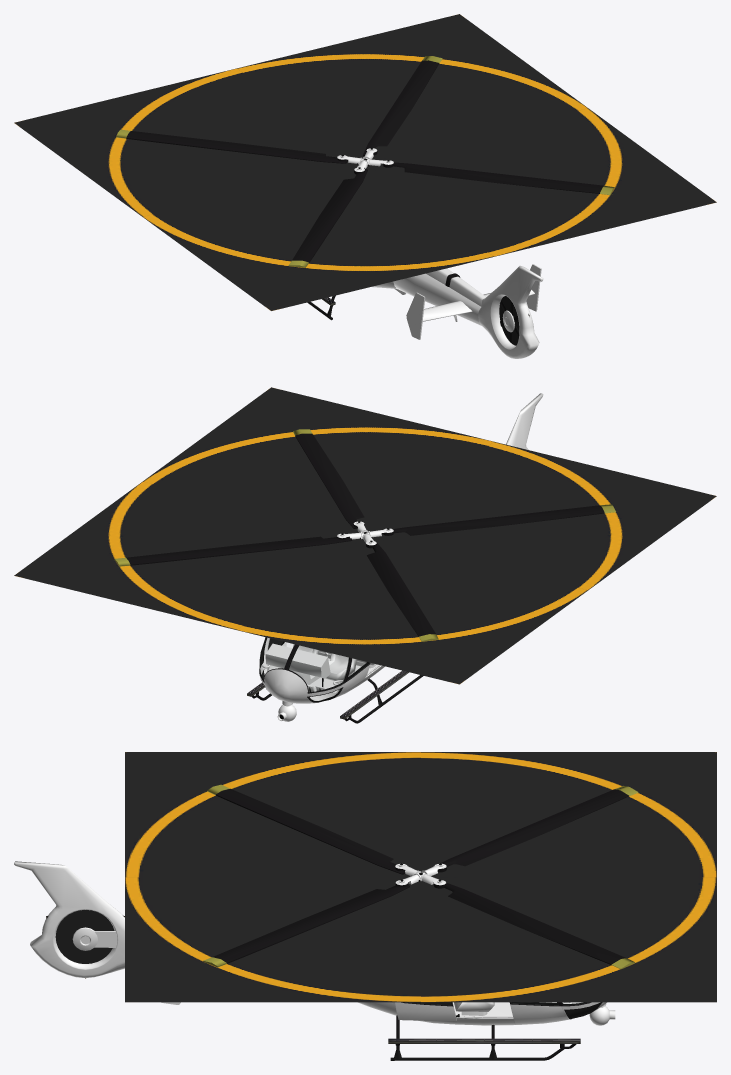
File: frogger.glb
3 renders of one model, top to bottom at view 1: azimuth 30°, elevation 25°; view 2: azimuth 150°, elevation 25°; view 3: azimuth 270°, elevation 25°, orthographic. The views are drawn at different scales.
Parts seen in each view (by area): view 1: g (×3); view 2: g (×4); view 3: g (×6).
Boxes of the visible parts, x1,y1,x2,y2 form: g (×3): (14, 14, 716, 358); g (×4): (14, 387, 716, 721); g (×6): (14, 752, 716, 1060).
Size of the model in its own units: 10.46 by 3.36 by 12.42.
Materials: 7 (5 with a texture image).
